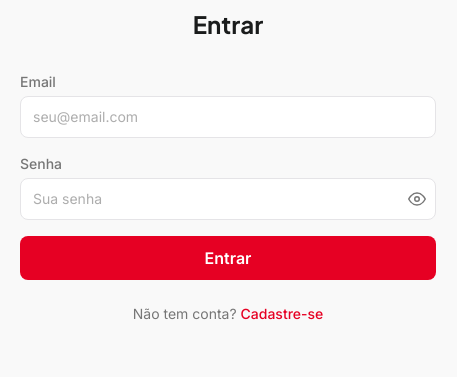
Test: Login › shows validation errors for empty fields
Click the button "Entrar" at [228, 258], box [20,236,436,280]
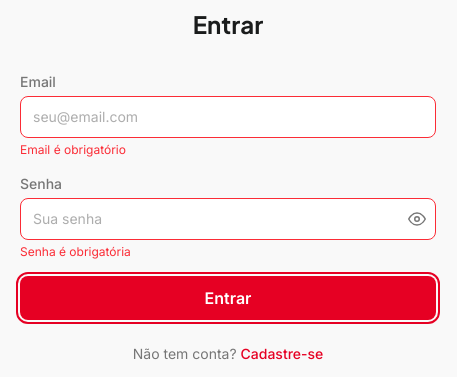
expect the text "Email é obrigatório" is shown: met, box [20,142,126,157]
expect the text "Senha é obrigatória" is shown: met, box [20,244,131,259]
